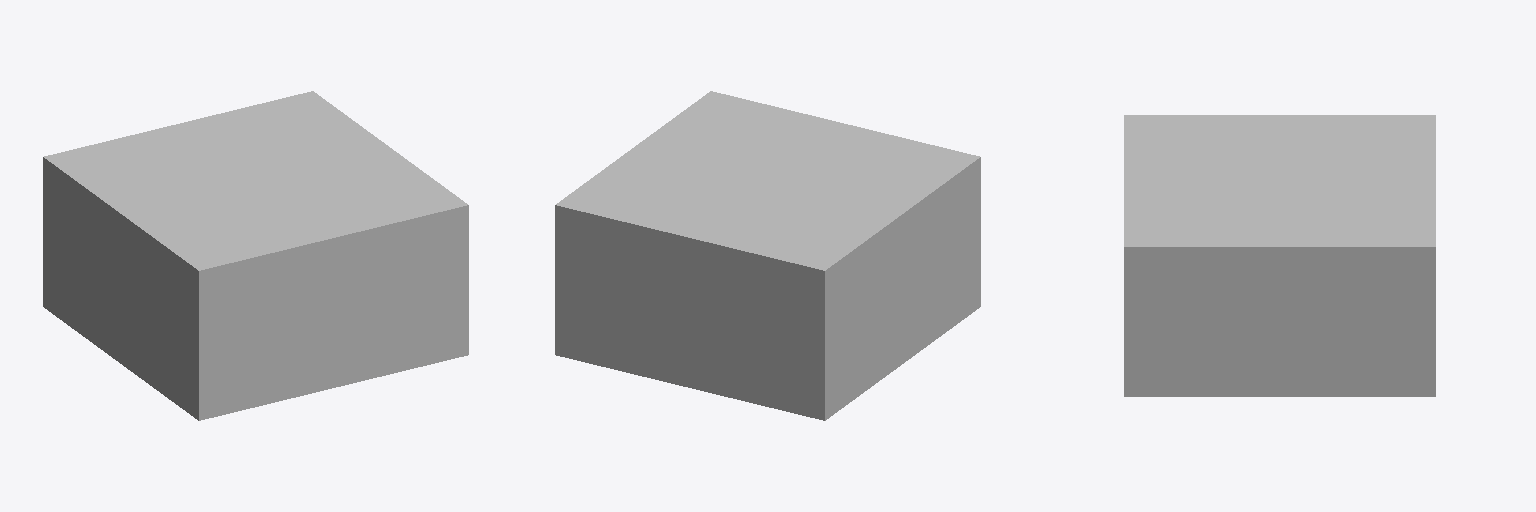
The model's file is sm224_rabbit.obj.
The picture shows the model from 3 angles: view 1: azimuth 30°, elevation 25°; view 2: azimuth 150°, elevation 25°; view 3: azimuth 270°, elevation 25°; orthographic projection.
Parts seen in each view (by area): view 1: entity110_brush3, entity110_brush4, entity110_brush1, entity110_brush0, entity110_brush2; view 2: entity110_brush2, entity110_brush4, entity110_brush1, entity110_brush0, entity110_brush3; view 3: entity110_brush0, entity110_brush4, entity110_brush1, entity110_brush2, entity110_brush3.
Part boxes in pixels (bbox=[...]): entity110_brush3: bbox=[203, 204, 460, 418]; entity110_brush4: bbox=[57, 97, 455, 264]; entity110_brush1: bbox=[43, 155, 206, 420]; entity110_brush0: bbox=[305, 91, 468, 356]; entity110_brush2: bbox=[52, 93, 308, 157]; entity110_brush2: bbox=[563, 204, 820, 418]; entity110_brush4: bbox=[568, 97, 966, 264]; entity110_brush1: bbox=[817, 155, 980, 420]; entity110_brush0: bbox=[555, 91, 718, 356]; entity110_brush3: bbox=[715, 93, 971, 157]; entity110_brush0: bbox=[1124, 243, 1435, 396]; entity110_brush4: bbox=[1134, 119, 1425, 242]; entity110_brush1: bbox=[1124, 115, 1435, 118]; entity110_brush2: bbox=[1426, 119, 1435, 242]; entity110_brush3: bbox=[1124, 119, 1133, 242].
Bounding box in the file's own units: 8192 × 4352 × 8192.